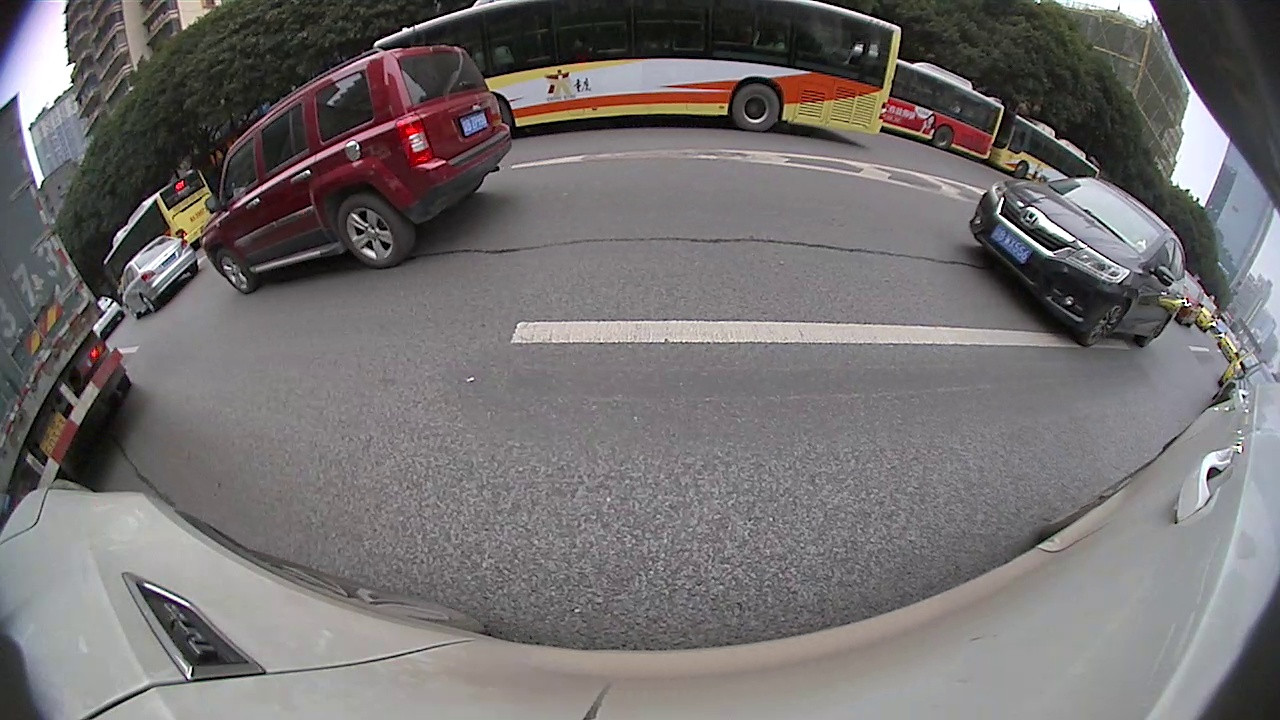bus: (372, 2, 900, 134), (101, 164, 224, 289), (886, 62, 1003, 163), (992, 113, 1101, 179)
car: (200, 43, 513, 298), (968, 169, 1184, 351), (117, 234, 199, 318), (1181, 276, 1207, 329)
front: (1084, 294, 1126, 350), (211, 245, 252, 294), (1015, 157, 1030, 182)
rear: (331, 193, 418, 266), (732, 77, 781, 132), (935, 121, 954, 152), (137, 291, 157, 314)
truck: (0, 91, 129, 492)
